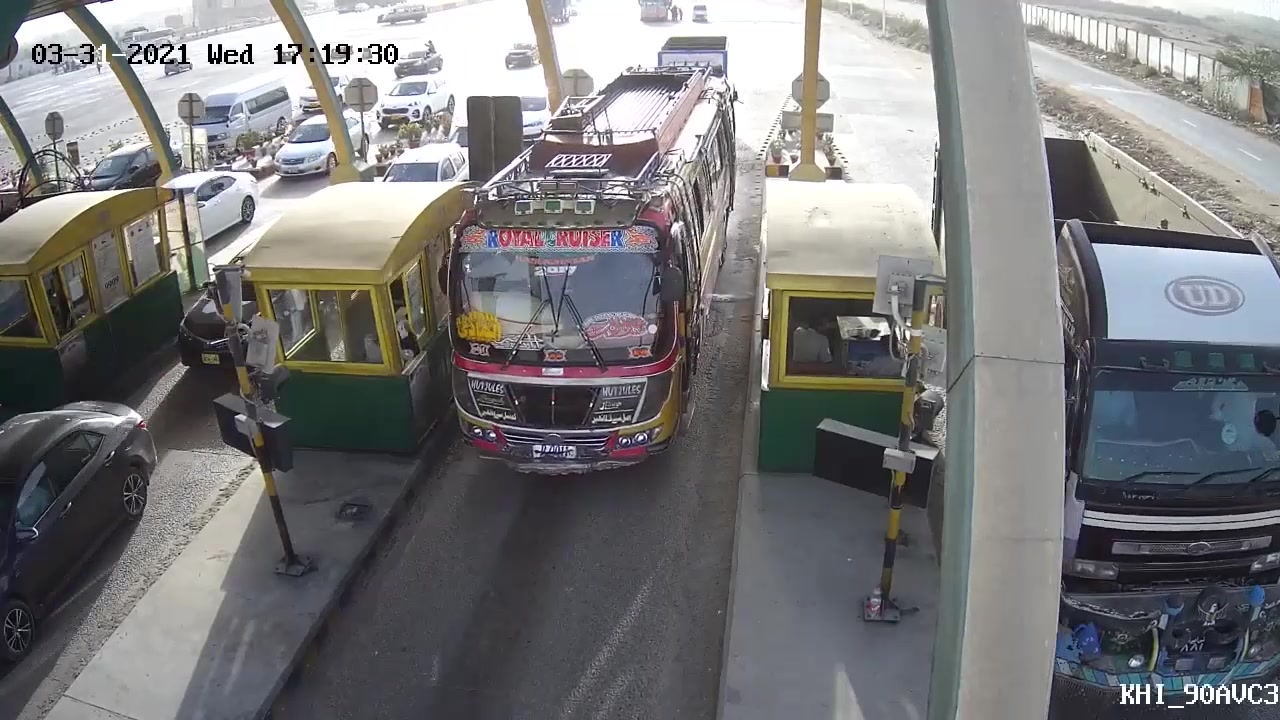F4: (430, 96, 737, 491)
